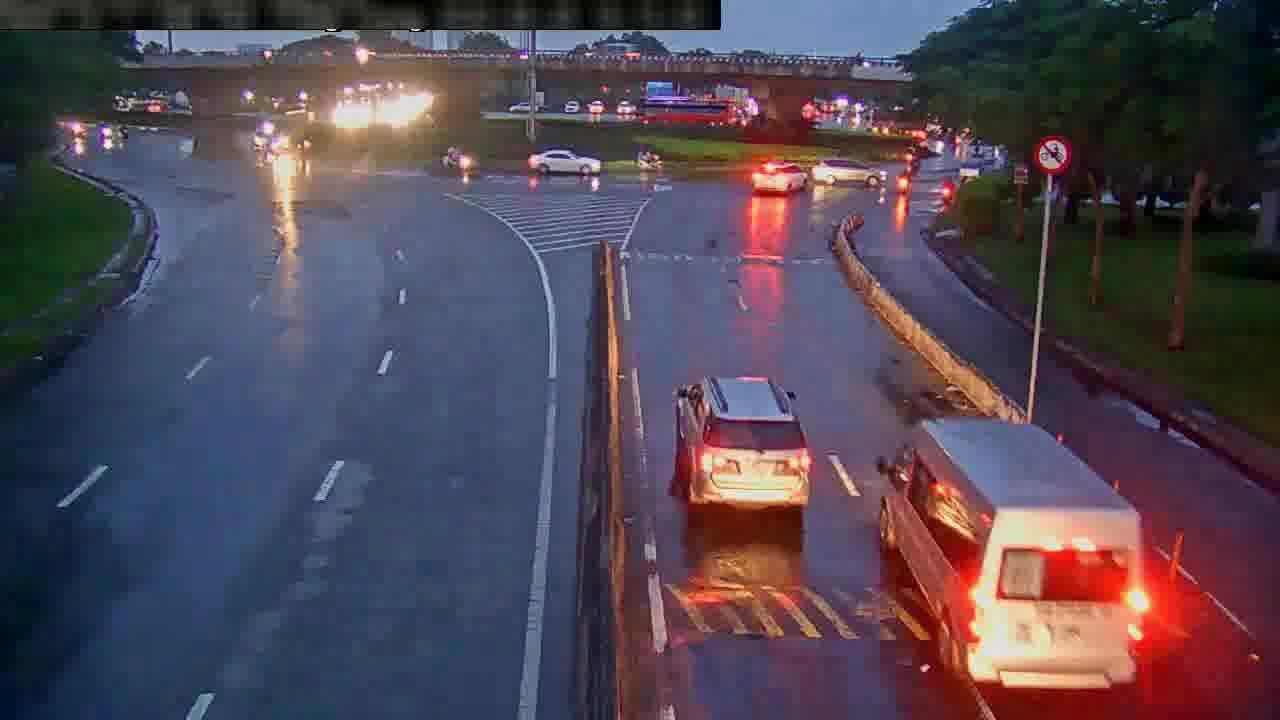14: (869, 415, 1153, 695)
container: (677, 374, 814, 518), (523, 148, 604, 185), (808, 156, 885, 189), (751, 160, 811, 194)
